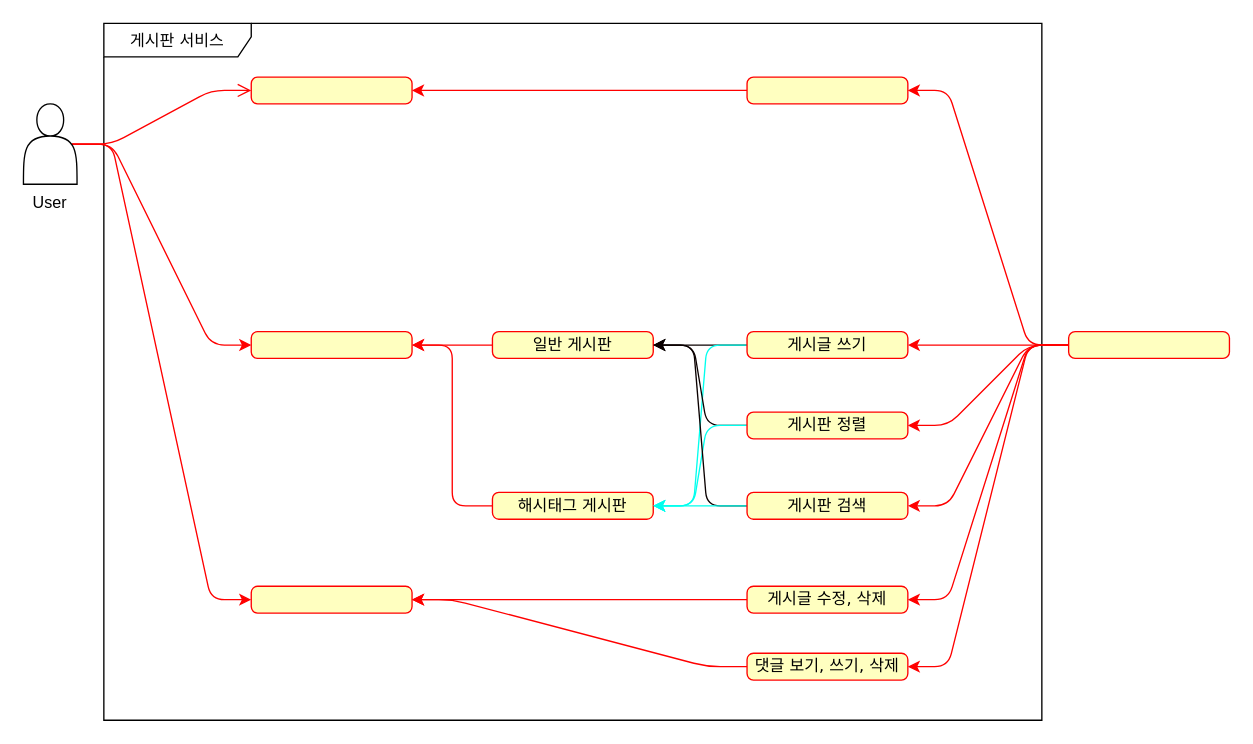
The diagram is 1253 pixels wide and 744 high, and some of its shapes have lost their labels. Each missing label, with the centre of its shape:
"DB" goes at [1148,344].
"DB 인증" goes at [827,90].
"게시글 보기" goes at [331,599].
"게시판 보기" goes at [331,344].
"회원 로그인" goes at [331,90].
